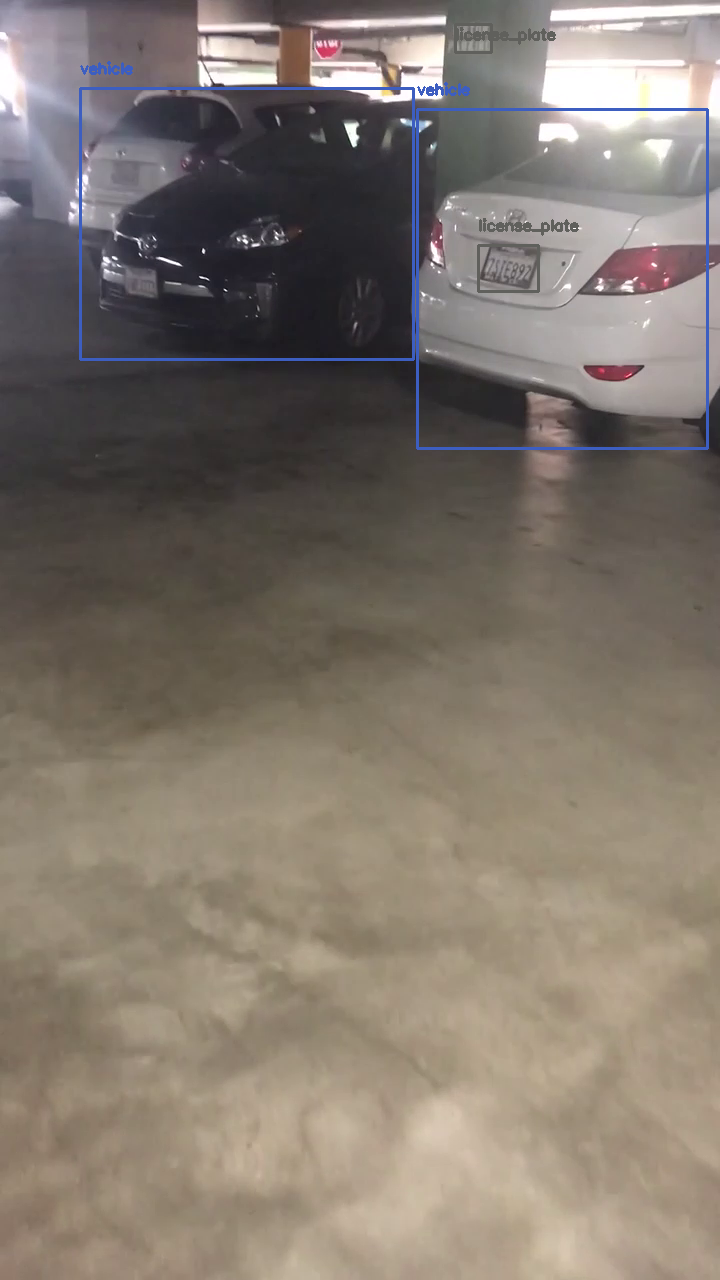license_plate: (478, 245, 538, 291), (455, 24, 491, 52)
vehicle: (417, 109, 707, 448), (80, 88, 413, 359)
